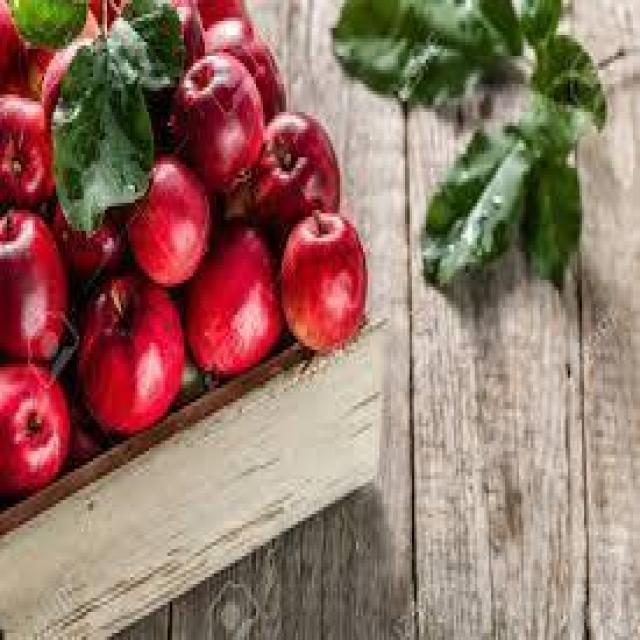maca: (0, 0, 368, 514)
